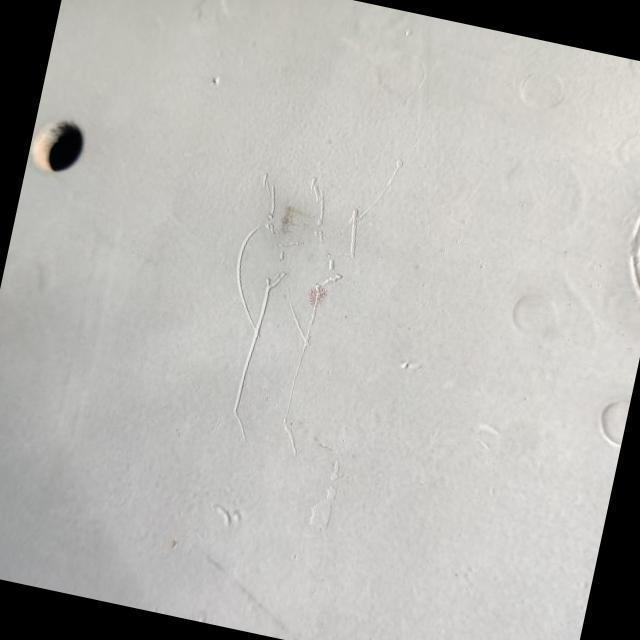Missing Fastener: (30, 110, 109, 204)
